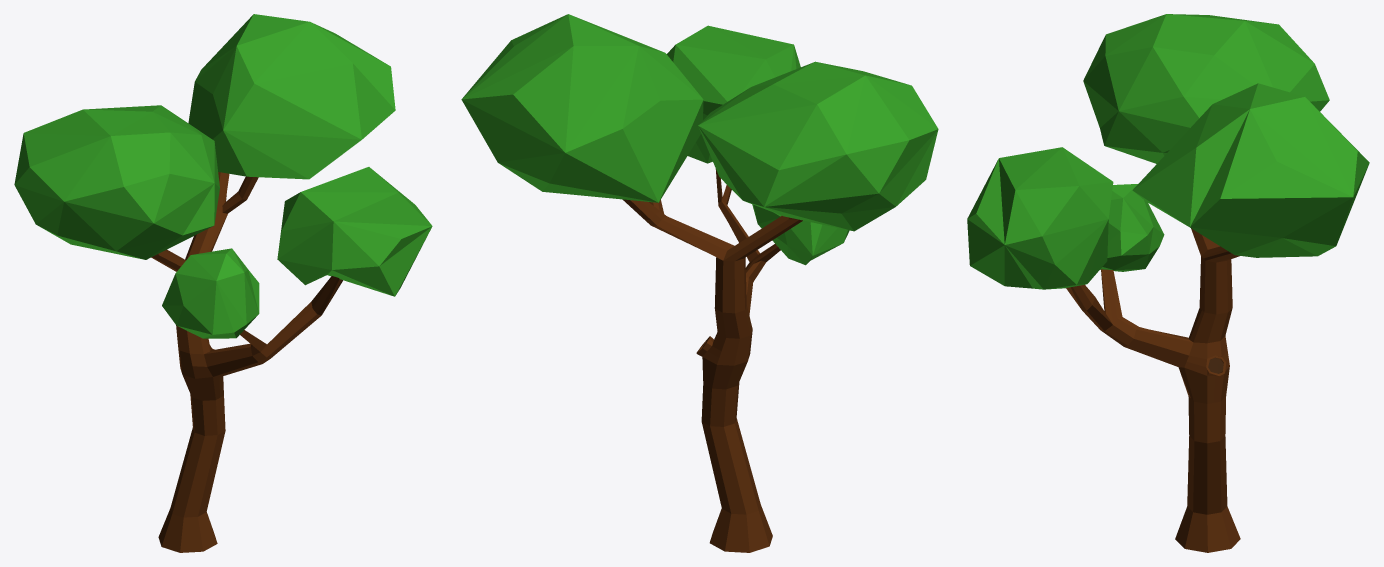
File: baum_lowpoly_a01.fbx
The picture shows the model from 3 angles, left to right: view 1: azimuth 30°, elevation 25°; view 2: azimuth 150°, elevation 25°; view 3: azimuth 270°, elevation 25°; orthographic projection. The views are drawn at different scales.
Visible parts, largest first — view 1: lowpoly tree; view 2: lowpoly tree; view 3: lowpoly tree.
Part boxes in pixels (x1,y1,x2,y2): lowpoly tree: [14, 14, 432, 552]; lowpoly tree: [461, 14, 938, 552]; lowpoly tree: [967, 14, 1369, 552].
Size of the model in its own units: 2503 by 3067 by 2219.
